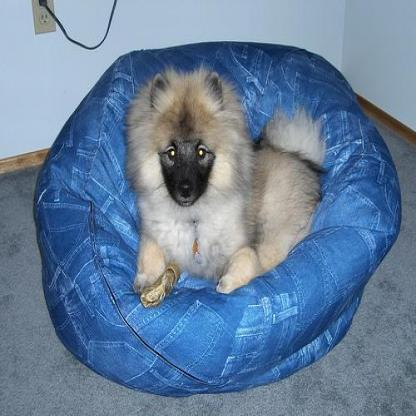keeshond: (121, 64, 324, 307)
